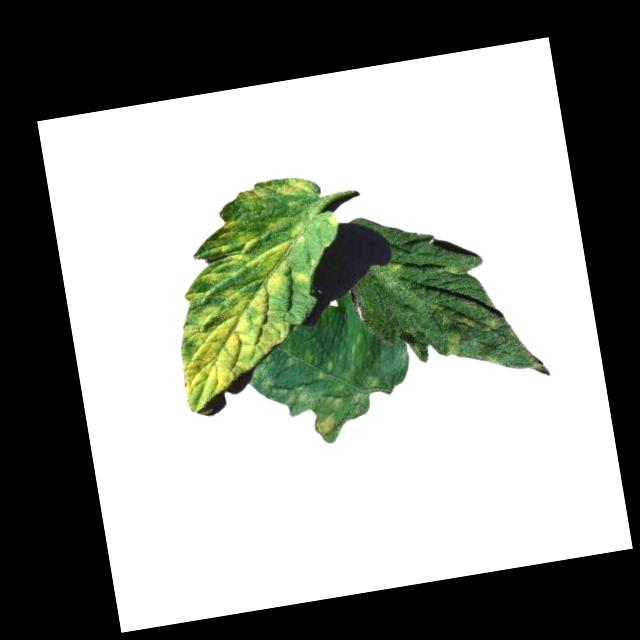Leaf_Mold: (150, 170, 363, 411), (280, 374, 374, 442), (471, 310, 507, 336), (440, 331, 467, 362)
